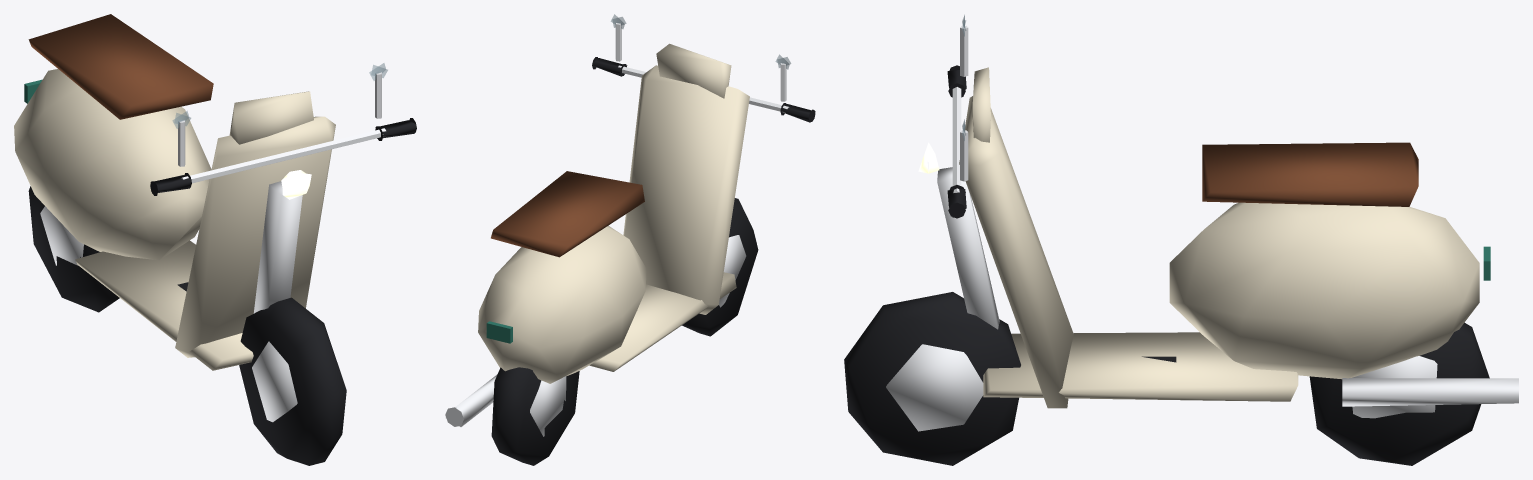
Rendered from lod_scooter_moto.glb.
3 views of the same model, side by side, from view 1: azimuth 30°, elevation 25°; view 2: azimuth 150°, elevation 25°; view 3: azimuth 270°, elevation 25° (orthographic). The views are drawn at different scales.
Parts seen in each view (by area): view 1: scooter_moto; view 2: scooter_moto; view 3: scooter_moto.
Boxes of the visible parts, <box> form: scooter_moto: <box>14,14,416,465</box>; scooter_moto: <box>445,14,815,465</box>; scooter_moto: <box>844,15,1518,465</box>.
Bounding box in the file's own units: 0.92 × 1.23 × 1.91.
